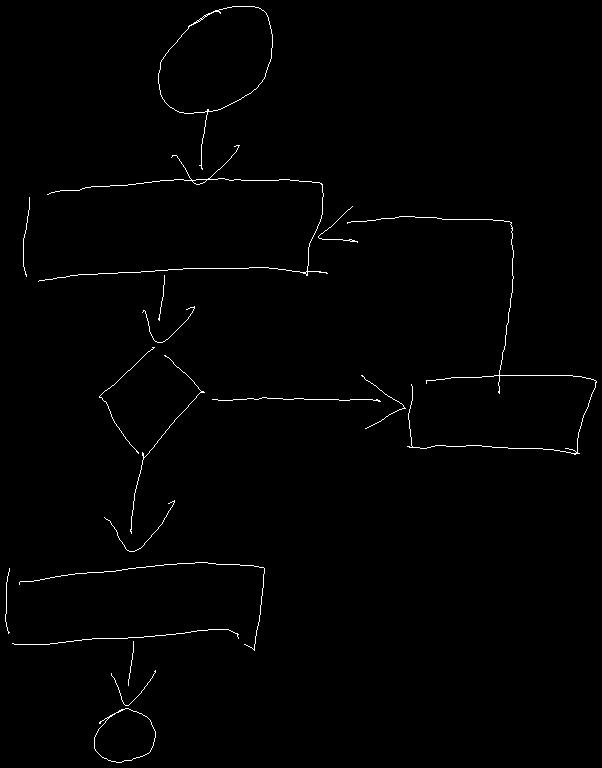arrow: (318, 206, 513, 393), (212, 375, 405, 428), (104, 452, 174, 551), (171, 109, 239, 184), (142, 275, 194, 342), (111, 641, 155, 705)
connection: (158, 6, 272, 113), (94, 708, 155, 762)
decision: (99, 347, 204, 459)
process: (23, 178, 327, 281), (5, 562, 264, 650), (407, 375, 596, 454)
